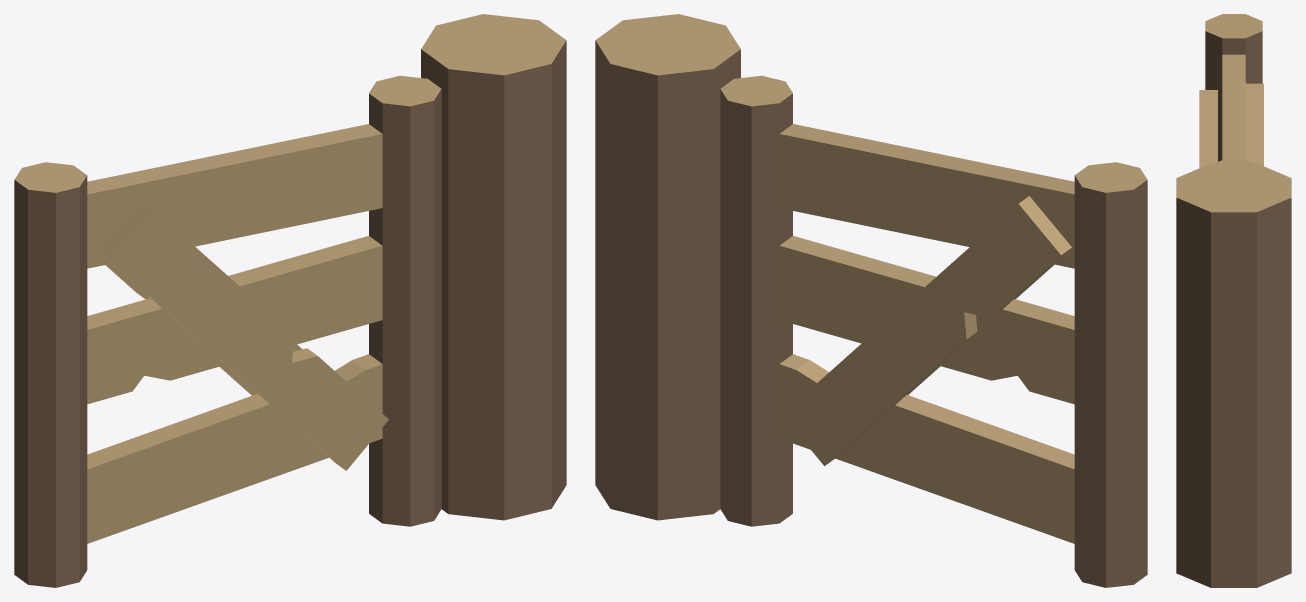
The model's file is Hilly_Prop_Fence_Gate_2.obj.
3 views of the same model, side by side, from view 1: azimuth 30°, elevation 25°; view 2: azimuth 150°, elevation 25°; view 3: azimuth 270°, elevation 25° (orthographic). The views are drawn at different scales.
Visible parts, largest first — view 1: object3, object2, object1, object8, object5, object4, object6; view 2: object3, object2, object1, object7, object8, object4, object6; view 3: object3, object2, object8, object7, object5.
Boxes of the visible parts, x1,y1,x2,y2 form: object3: [421, 14, 566, 520]; object2: [14, 162, 87, 587]; object1: [369, 75, 441, 526]; object8: [87, 124, 382, 268]; object5: [99, 200, 388, 470]; object4: [87, 354, 382, 543]; object6: [87, 236, 382, 404]; object3: [595, 14, 740, 520]; object2: [1074, 162, 1147, 587]; object1: [720, 75, 792, 526]; object7: [782, 196, 1071, 465]; object8: [779, 124, 1074, 268]; object4: [779, 354, 1074, 543]; object6: [779, 236, 1074, 404]; object3: [1176, 163, 1291, 587]; object2: [1205, 14, 1262, 161]; object8: [1222, 54, 1245, 159]; object7: [1245, 83, 1263, 166]; object5: [1199, 90, 1217, 168].
Bounding box in the file's own units: 1.12 × 0.9 × 0.25.
